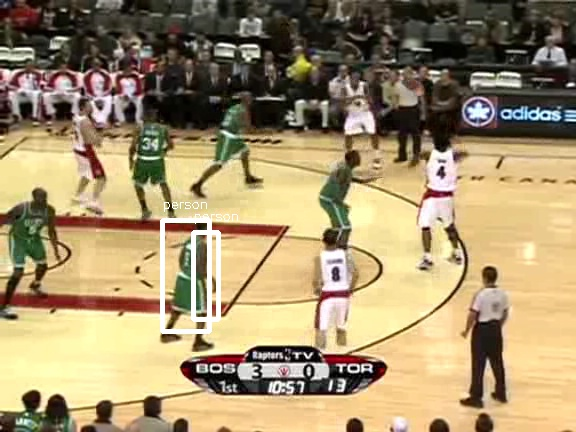person: (177, 235, 211, 316), (176, 235, 210, 316), (178, 235, 212, 316), (177, 234, 211, 315), (177, 236, 211, 317)
target_negative: (341, 115, 518, 345), (239, 175, 369, 336), (345, 264, 552, 355), (243, 344, 442, 425), (487, 255, 526, 367), (502, 201, 515, 357)
